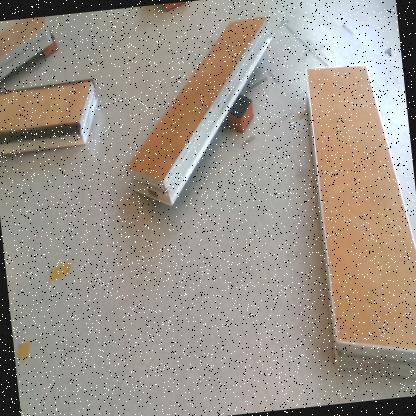Stairs: (307, 66, 416, 381), (125, 15, 272, 204), (1, 78, 98, 157), (1, 17, 52, 79)
